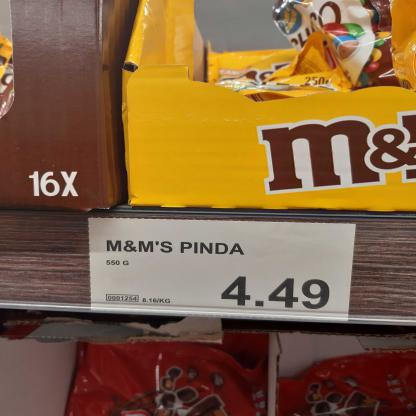prtg: (88, 218, 360, 322)
